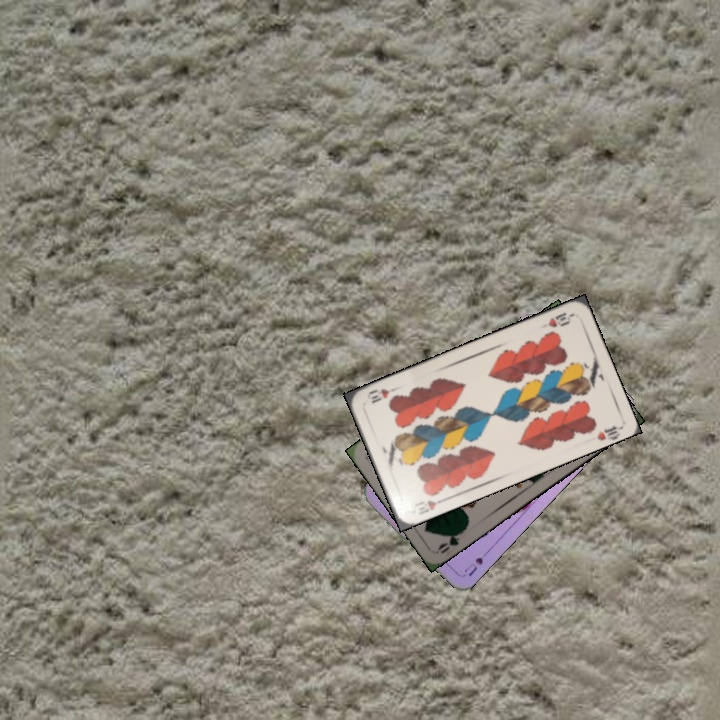GO: (434, 525, 469, 553)
H10: (536, 308, 575, 331), (411, 494, 448, 518)
SU: (460, 544, 493, 579)
